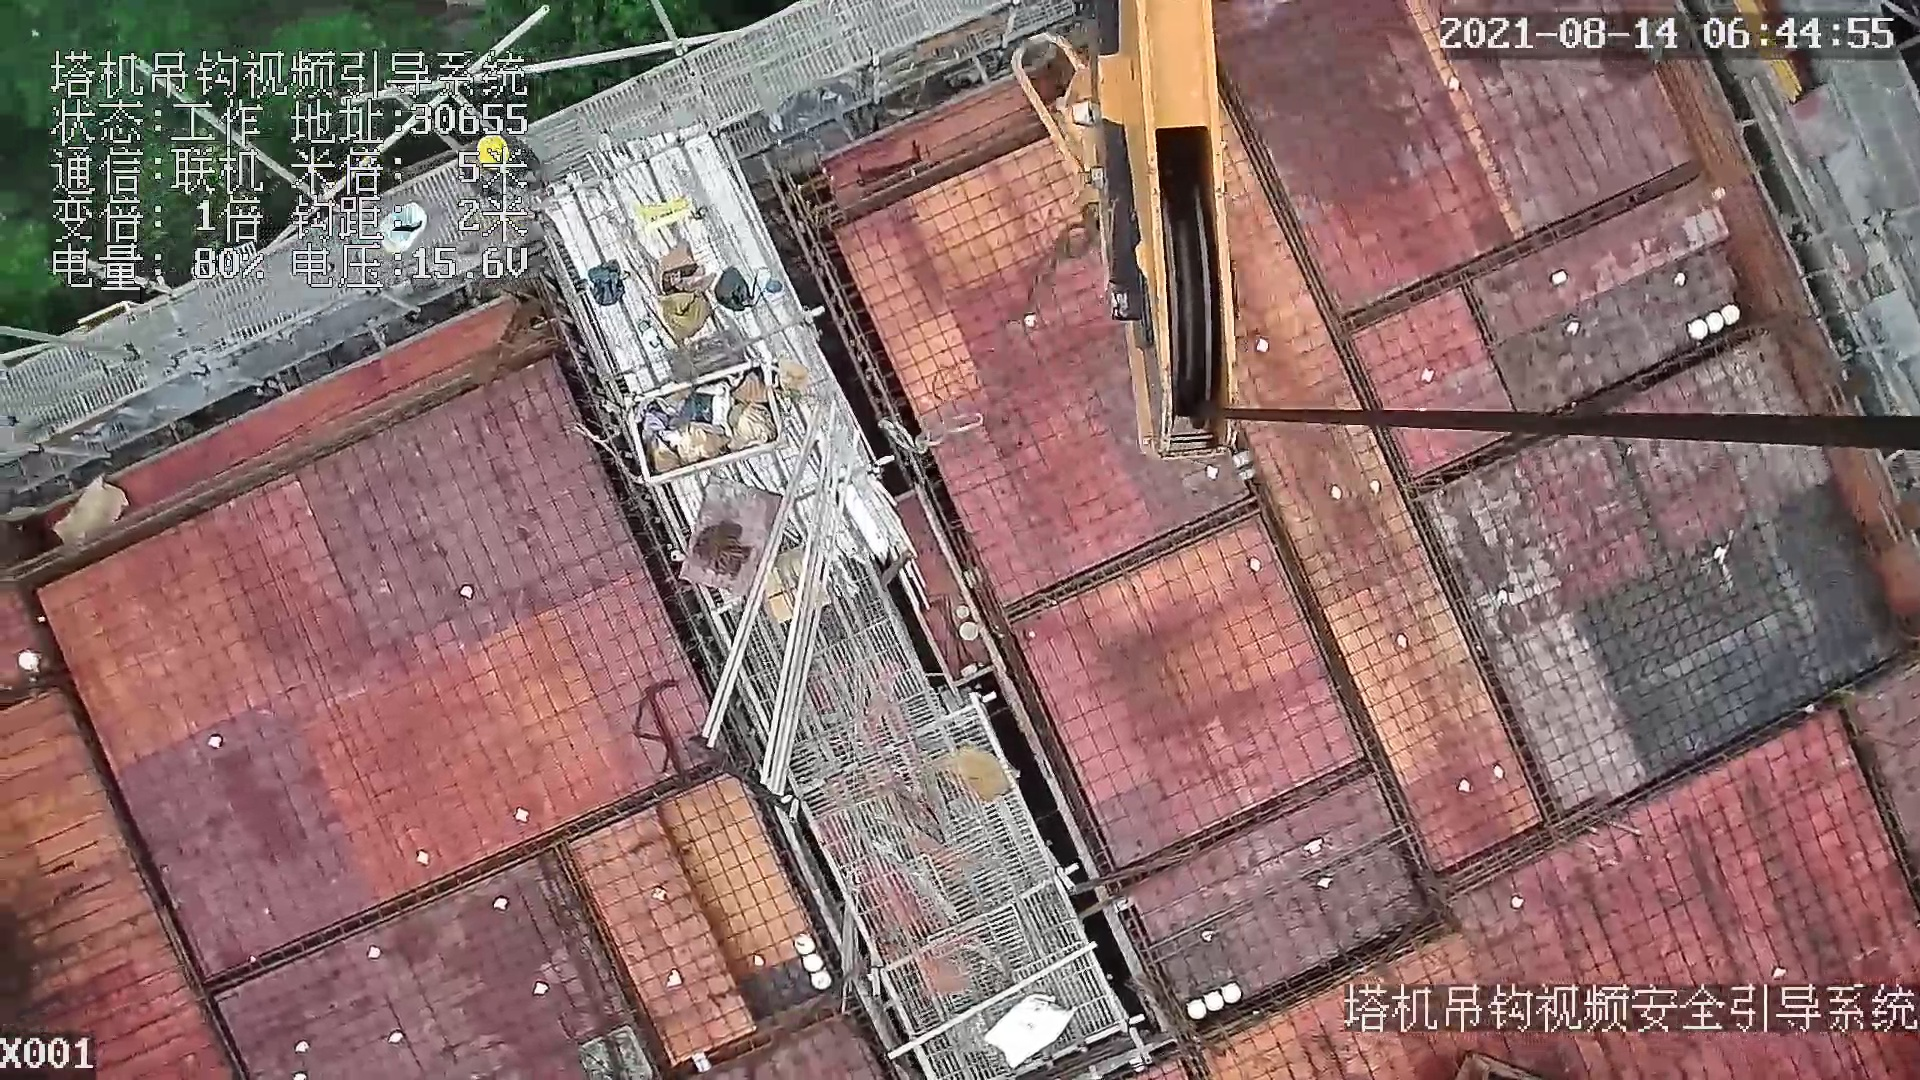helmet: (480, 135, 512, 169)
hook: (996, 3, 1247, 465)
